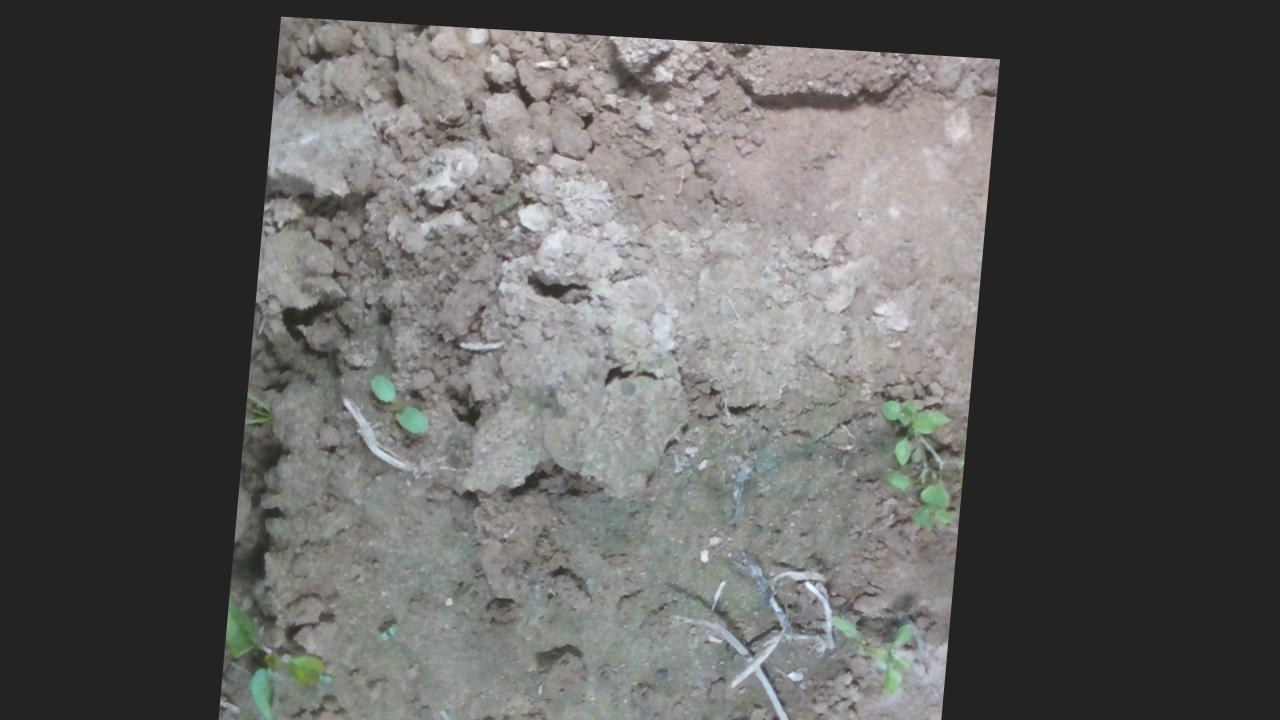weed: (373, 366, 442, 427), (491, 710, 540, 719)
